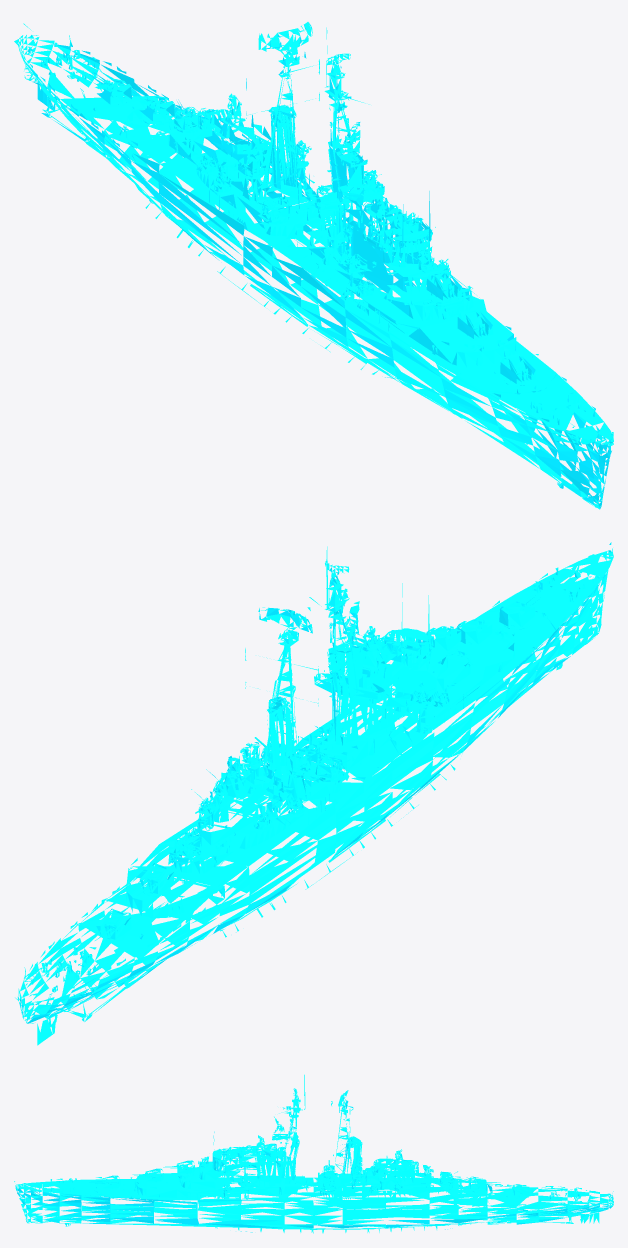
Rendered from PHSC998.glb.
3 views of the same model, one above another, from view 1: azimuth 30°, elevation 25°; view 2: azimuth 150°, elevation 25°; view 3: azimuth 270°, elevation 25° (orthographic). The views are drawn at different scales.
Visible parts, largest first — view 1: hull, turret; view 2: hull, turret; view 3: hull, turret.
Part boxes in pixels (x1,y1,x2,y2): hull: (14,22,613,509); turret: (89,73,537,385); hull: (15,542,613,1045); turret: (89,598,537,940); hull: (14,1074,613,1233); turret: (89,1155,543,1198).
Bounding box in the file's own units: 1.31 × 3.47 × 12.41.
